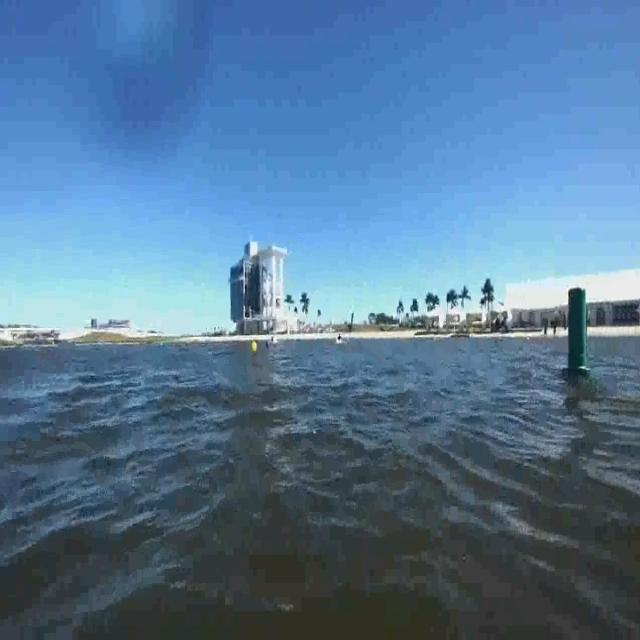green-column-buoy: (562, 283, 592, 380)
yellow-buoy: (250, 341, 258, 355)
